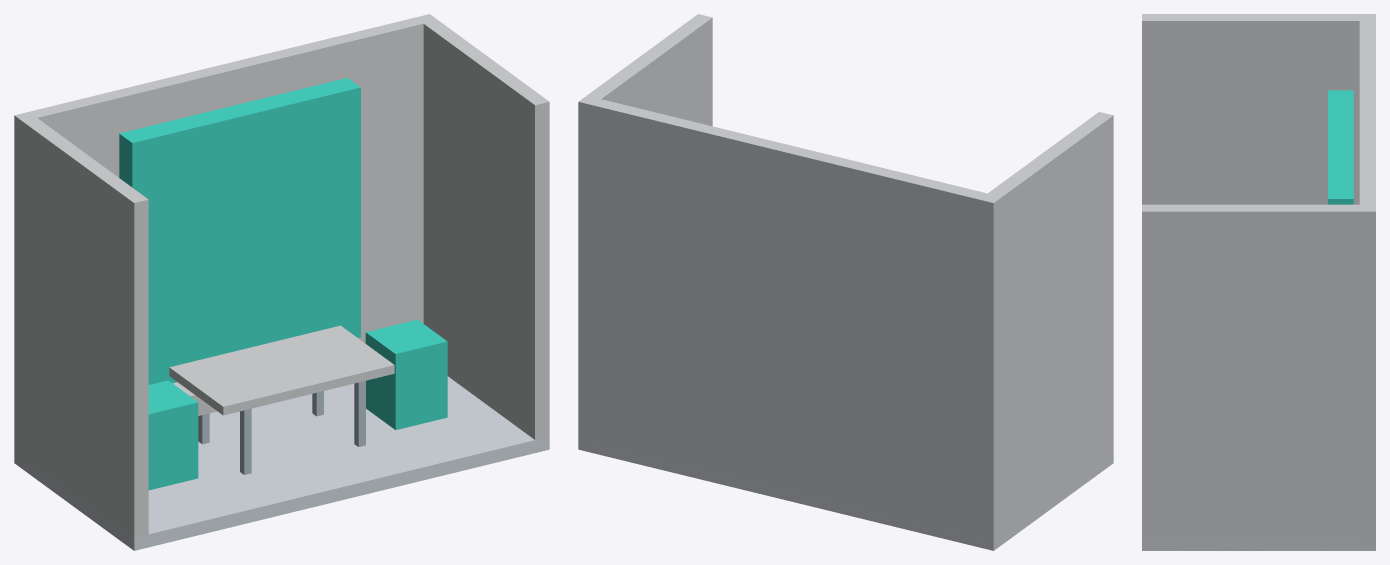
The picture shows the model from 3 angles, left to right: view 1: azimuth 30°, elevation 25°; view 2: azimuth 150°, elevation 25°; view 3: azimuth 270°, elevation 25°; orthographic projection. The views are drawn at different scales.
Visible parts, largest first — view 1: Exhibition Booth Concept; view 2: Exhibition Booth Concept; view 3: Exhibition Booth Concept.
Boxes of the visible parts, box(x1,y1,x2,y2) form: Exhibition Booth Concept: box(14, 14, 549, 550); Exhibition Booth Concept: box(578, 14, 1113, 550); Exhibition Booth Concept: box(1142, 14, 1375, 550).
Bounding box in the file's own units: 4 × 3.2 × 2.
